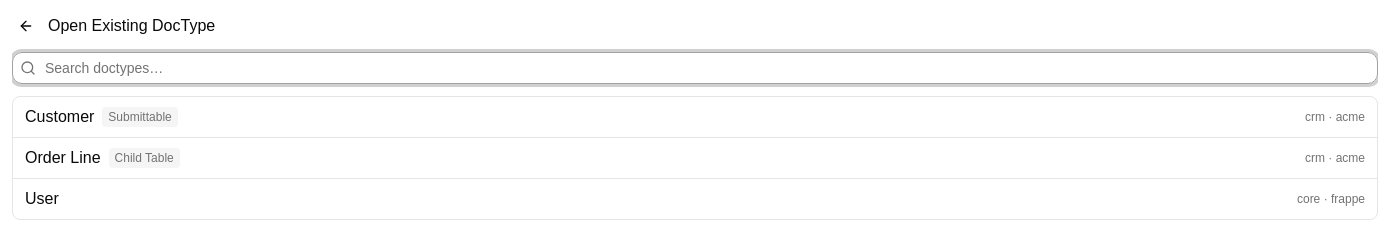
Test case: DocTypeList › filters client-side by search query
Check: the text "Customer" is shown, box [25,105,94,129]
Type "order" into the field with placeholder "Search doctypes…" at [695, 68], box [12,52,1378,84]
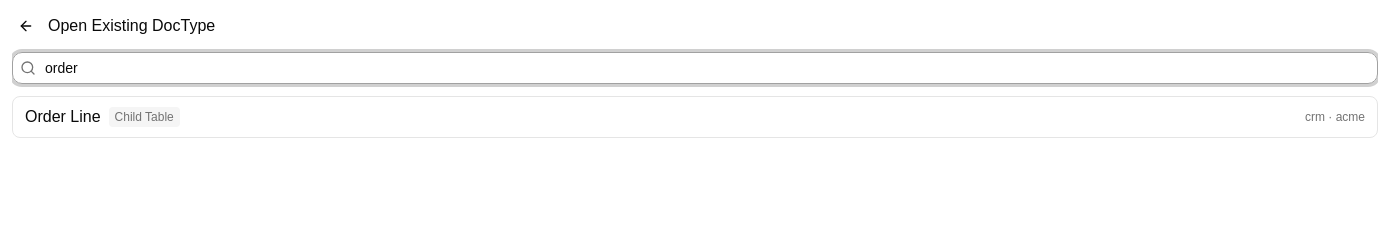
Check: the text "Order Line" is shown, box [25,105,101,129]
Check: the button "Customer" is gone
Check: the button "User" is gone
